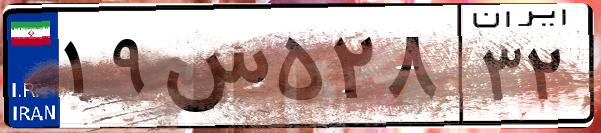1: (57, 26, 110, 100)
2: (330, 28, 385, 110), (525, 38, 570, 115)
3: (475, 38, 525, 113)
5: (270, 28, 330, 110)
8: (385, 28, 445, 110)
9: (110, 28, 158, 98)
س: (158, 20, 270, 120)
